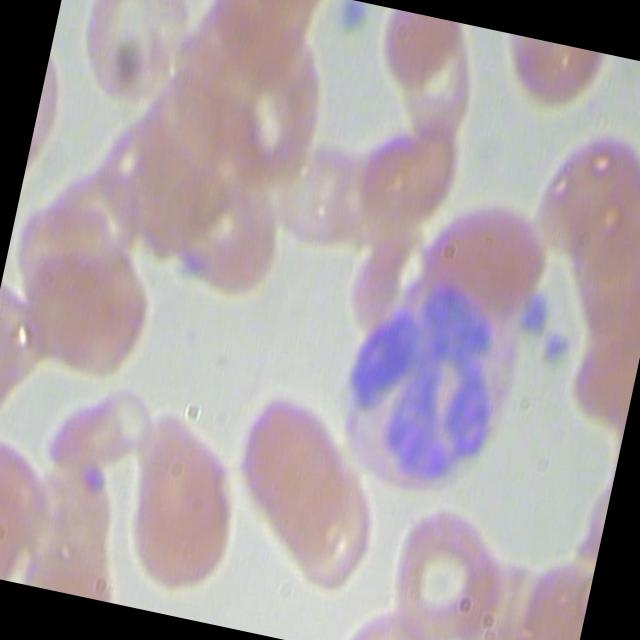Platelets: (530, 315, 581, 372), (512, 285, 562, 342), (328, 0, 374, 42)
RBC: (107, 400, 265, 603), (6, 235, 168, 399), (226, 384, 371, 545), (411, 182, 562, 332), (376, 495, 525, 640), (158, 156, 296, 301), (252, 124, 388, 266), (266, 462, 402, 604), (338, 104, 474, 245), (27, 152, 164, 288), (518, 119, 640, 269), (62, 0, 216, 118), (39, 372, 173, 492), (0, 419, 64, 585)
WBC: (317, 260, 534, 518)
